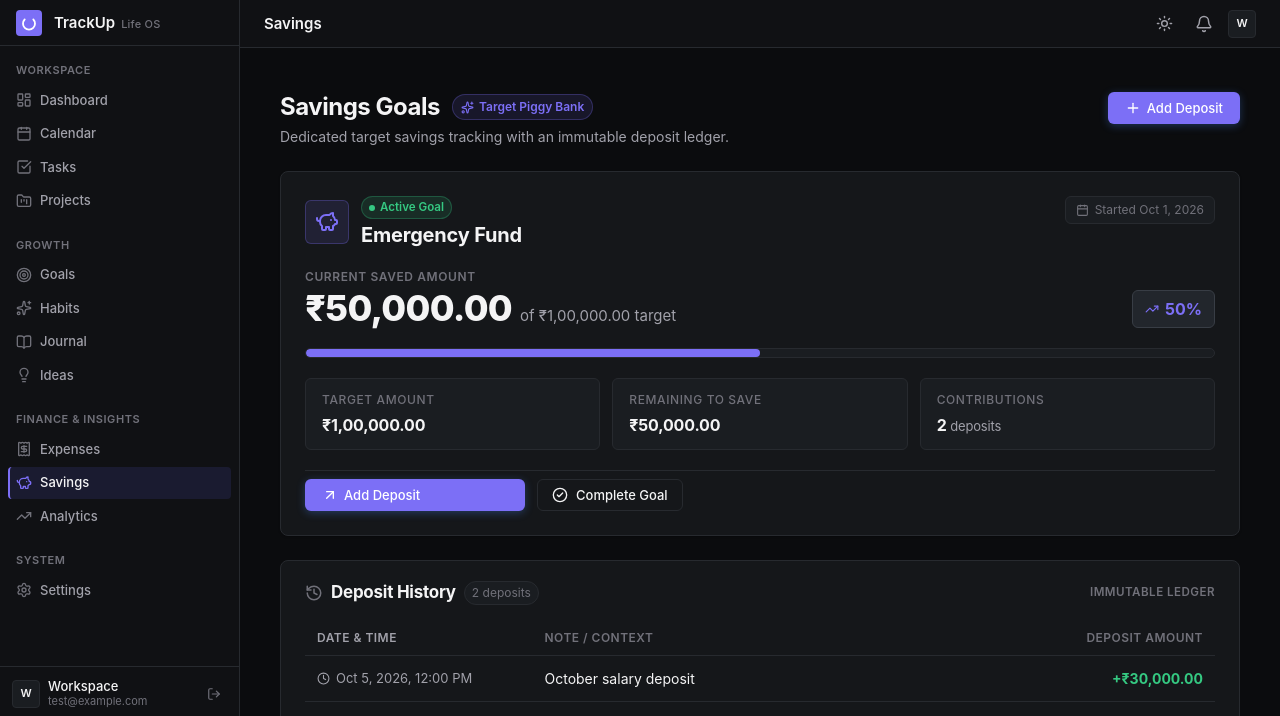
Milestone 3B: Savings Goals UI & Dashboard Integration Suite › 5. Contribution Modal & Ledger Updates › records a deposit, updates goal progress, and appends to contribution ledger
Expected: the heading "Emergency Fund" is shown, 361,223 -> 522,248
Click the button with id "btn-open-add-deposit" at (415, 495), box 305,479 -> 525,511
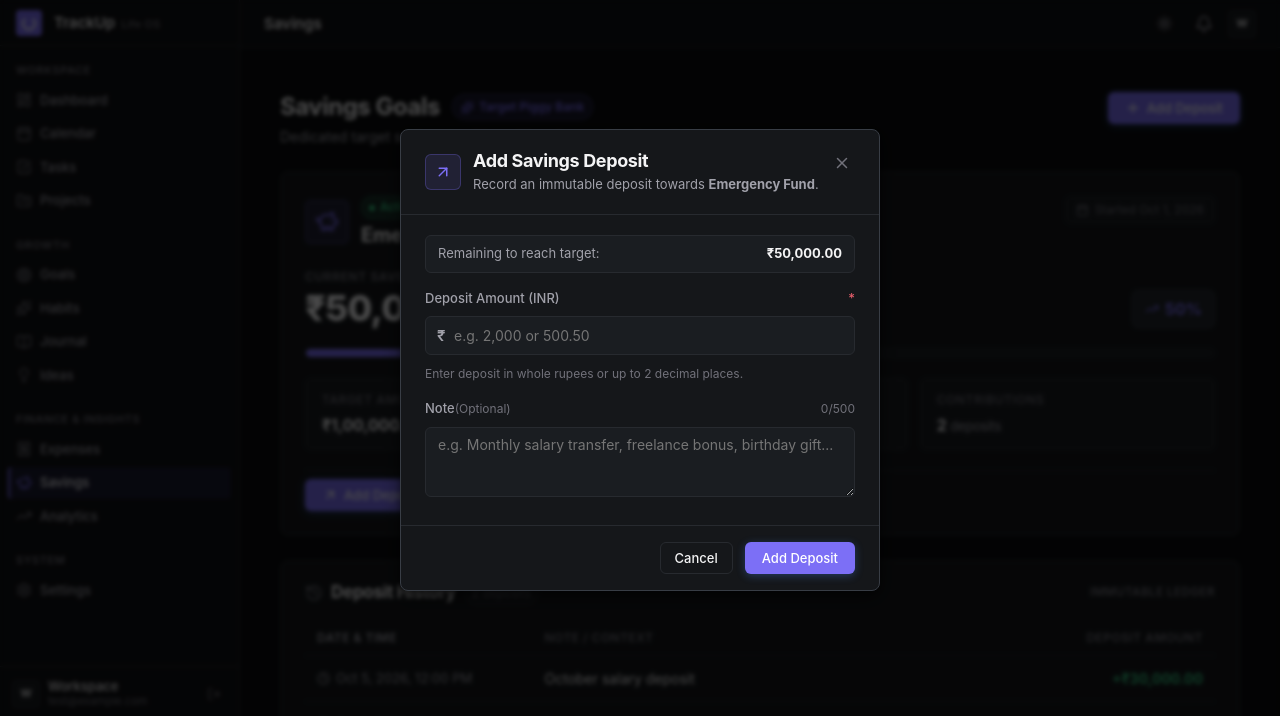
Result: the heading "Add Savings Deposit" is shown at 473,150 -> 648,171
Result: the text "Remaining to reach target:" is shown at 438,244 -> 600,264
Note: Enter deposit ₹25,000 with note
Type "25000" into the field labelled "Deposit Amount (INR) *" at (640, 336), box 425,316 -> 855,355
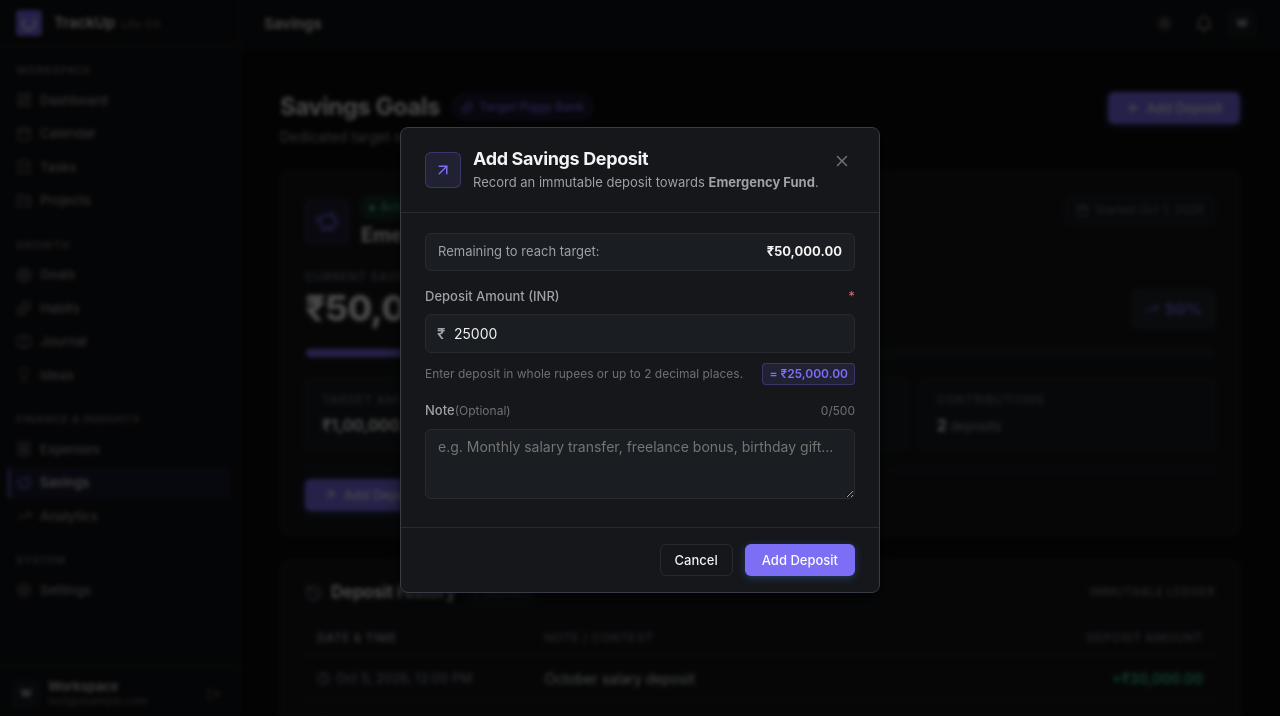
Replace the text in the text box labelled "Note (Optional)" with "Mid-month bonus deposit" at (640, 464), box 425,429 -> 855,499
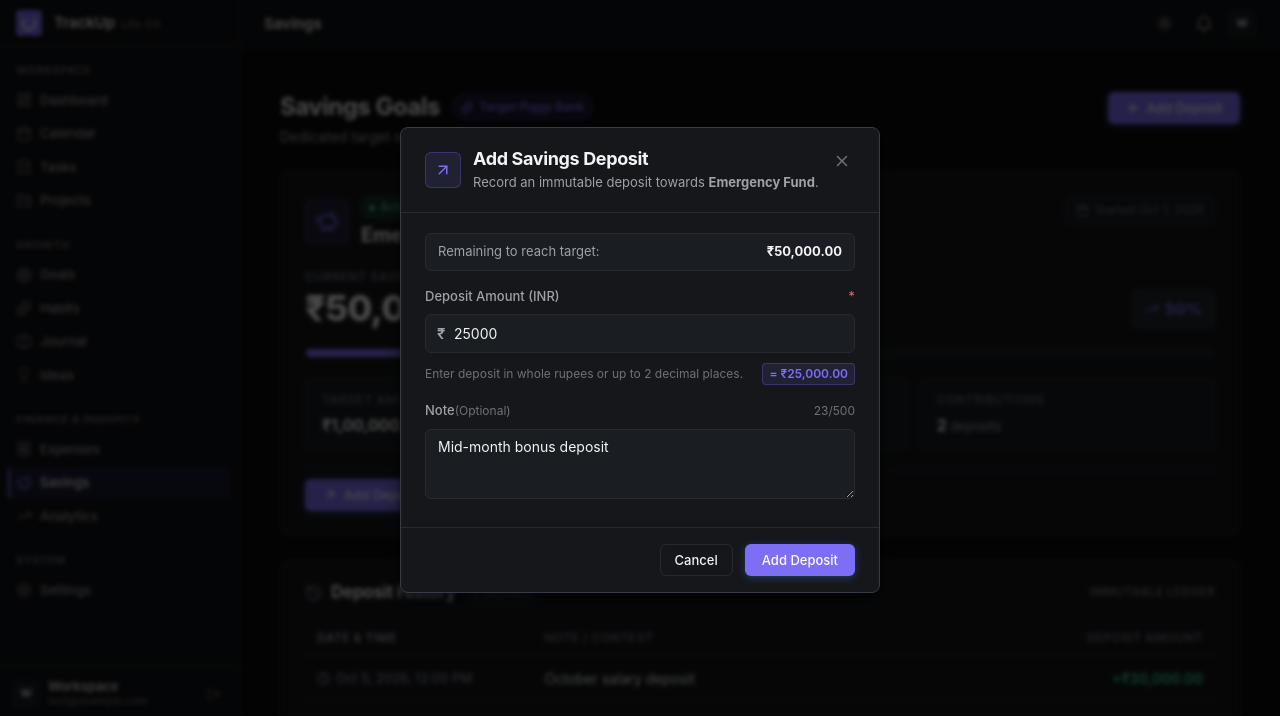
Click the button with id "btn-add-contribution-submit" at (800, 560), box 745,544 -> 855,576
(page scrolled)
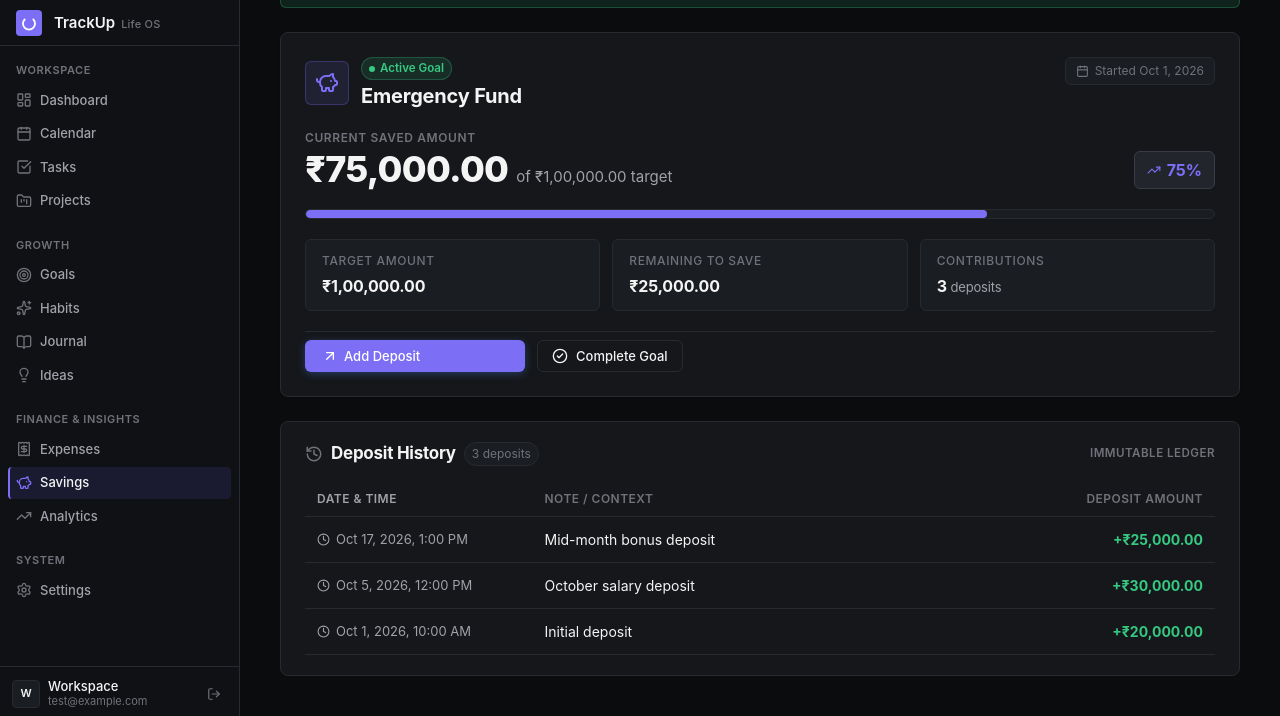
Result: the text "₹75,000.00" is shown at 305,151 -> 508,187
Result: the text "75%" is shown at 1167,158 -> 1202,182
Result: the text "Mid-month bonus deposit" is shown at 544,531 -> 715,548
